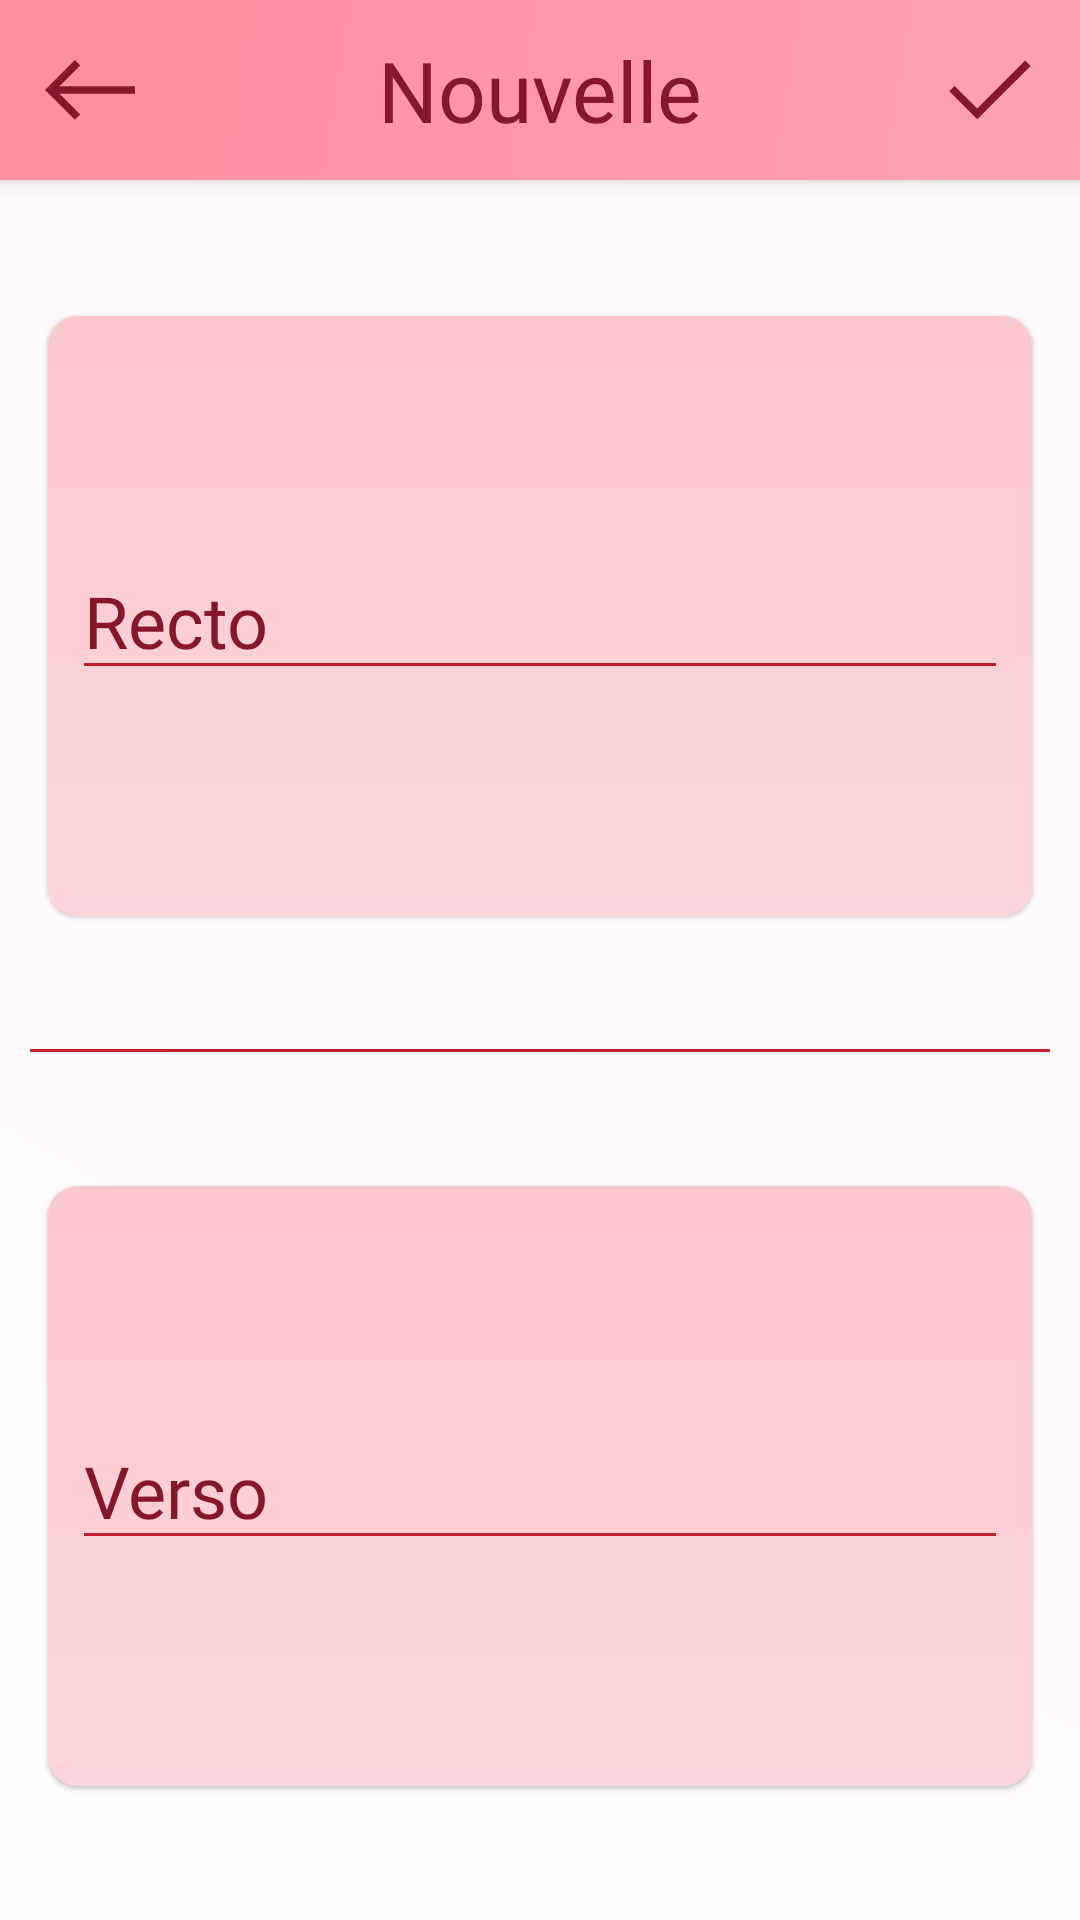

Icons on this 1080×1920 Android screen, each with its box as BBox(x1, y1, x2, y2):
done: BBox(949, 60, 1030, 119)
keyboard backspace: BBox(45, 60, 135, 120)
